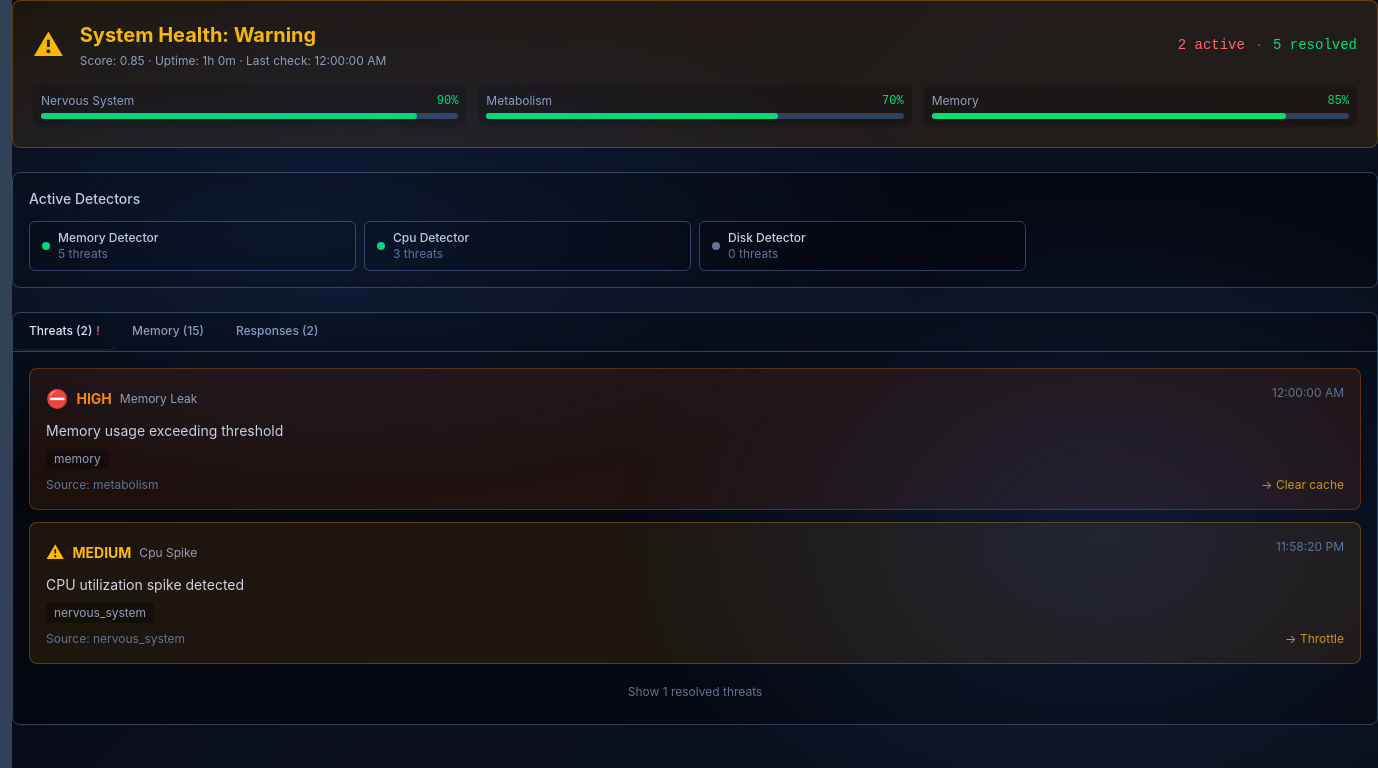
Test: ImmuneSystemPanel › toggles resolved threats visibility
The width and height of the screenshot is (1378, 768).
Click the button "Show 1 resolved threats" at (695,692), box x1=29 y1=676 x2=1361 y2=708
(page scrolled)
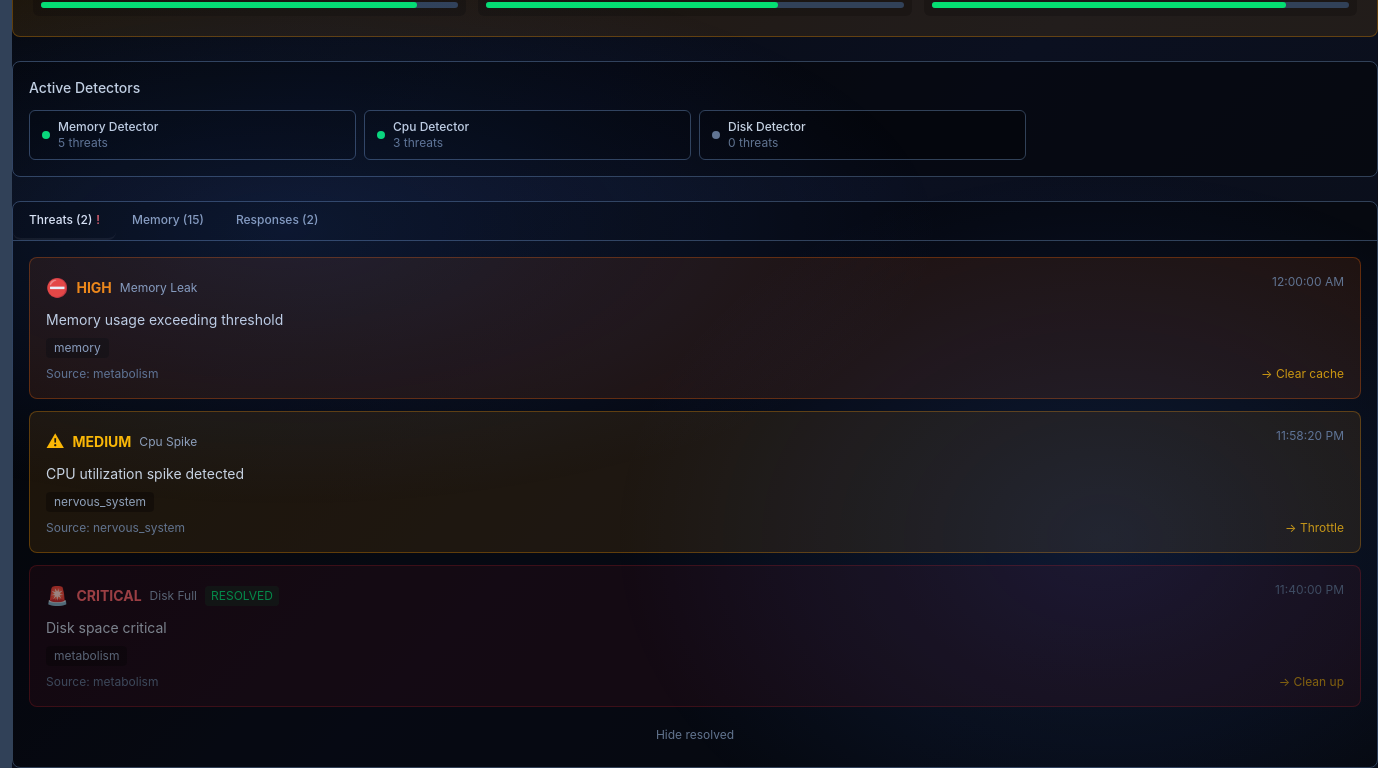
Check: the button "Hide resolved" is shown, box x1=29 y1=719 x2=1361 y2=751
